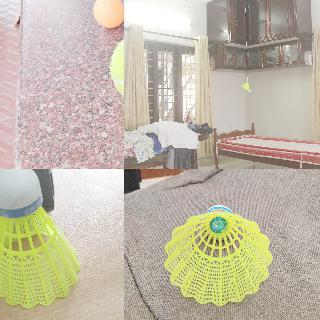shuttlecock: (0, 169, 80, 308), (164, 206, 276, 304), (240, 82, 250, 92)
